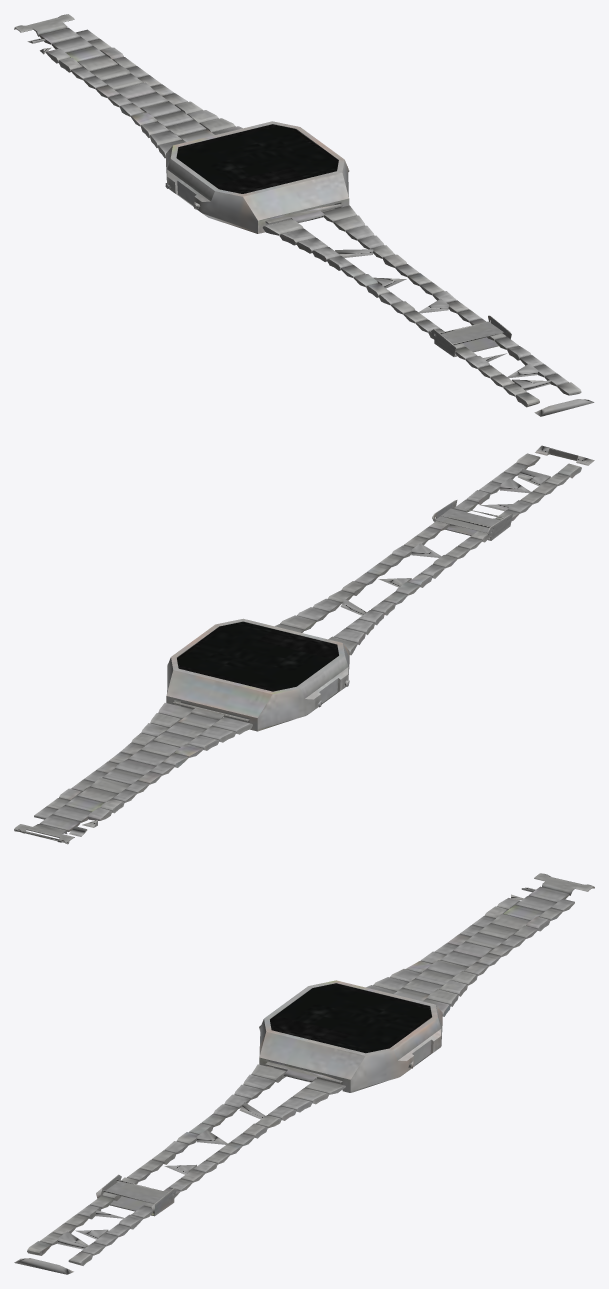
File: watch.glb
The picture shows the model from 3 angles, top to bottom: view 1: azimuth 30°, elevation 25°; view 2: azimuth 150°, elevation 25°; view 3: azimuth 330°, elevation 25°; orthographic projection.
Parts seen in each view (by area): view 1: digital_wrist_watch; view 2: digital_wrist_watch; view 3: digital_wrist_watch.
Boxes of the visible parts, left/top/right/bottom form: digital_wrist_watch: left=14, top=14, right=594, bottom=416; digital_wrist_watch: left=14, top=445, right=594, bottom=844; digital_wrist_watch: left=14, top=873, right=594, bottom=1274.
Size of the model in its own units: 0.0365 by 0.00835 by 0.2172.
2 materials, 2 textured.
